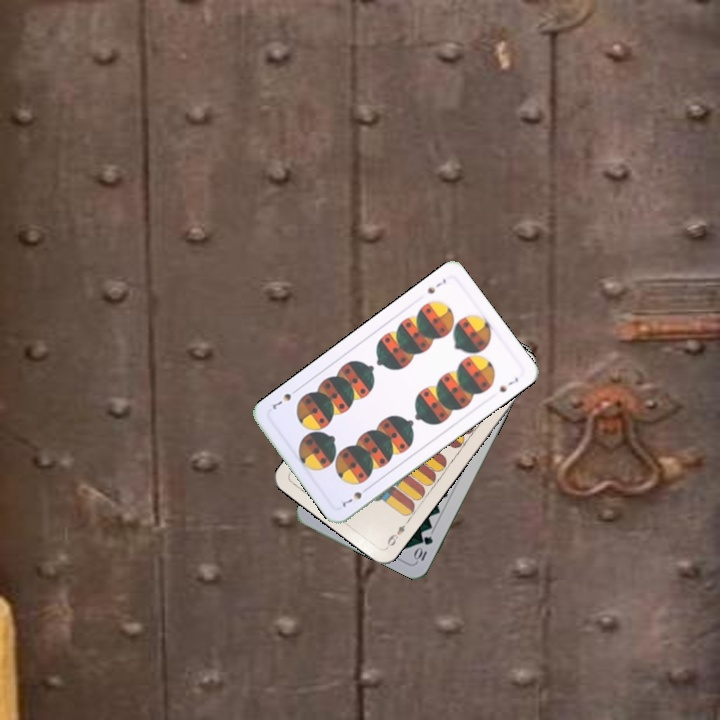E9: (383, 516, 412, 550)
G10: (410, 532, 436, 564)
S7: (338, 482, 372, 510), (423, 274, 449, 296)
